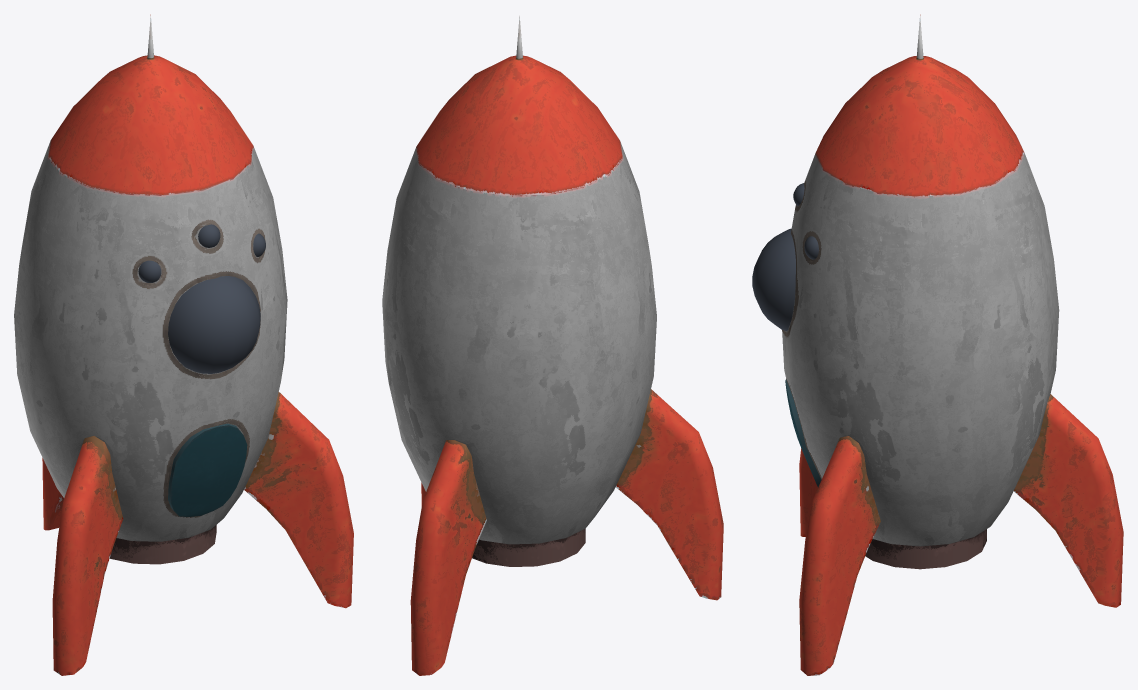
File: rocket.fbx
The picture shows the model from 3 angles, left to right: view 1: azimuth 30°, elevation 25°; view 2: azimuth 150°, elevation 25°; view 3: azimuth 270°, elevation 25°; orthographic projection.
Visible parts, largest first — view 1: rocket_EX; view 2: rocket_EX; view 3: rocket_EX.
Part boxes in pixels (x1=…): rocket_EX: x1=14, y1=14, x2=353, y2=675; rocket_EX: x1=382, y1=16, x2=723, y2=675; rocket_EX: x1=752, y1=14, x2=1123, y2=675.
Bounding box in the file's own units: 42.49 × 79.96 × 45.55.
